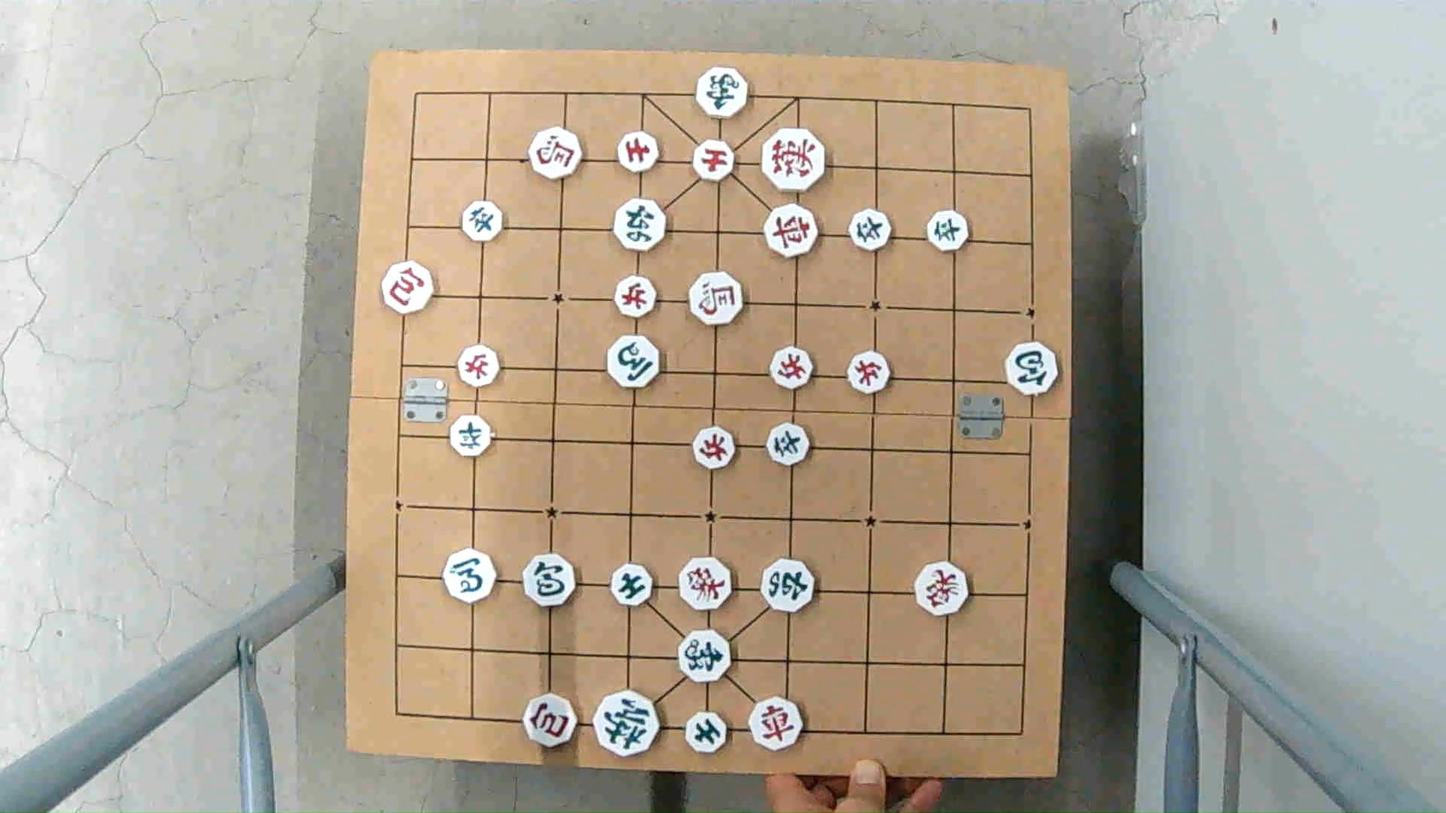cha_green: (761, 561, 818, 611), (612, 199, 667, 250)
cha_red: (751, 698, 805, 751), (765, 207, 821, 256)
jol_green: (925, 211, 973, 249), (767, 425, 812, 464), (450, 418, 496, 456), (848, 212, 894, 250), (462, 202, 506, 241)
jol_red: (690, 426, 735, 470), (615, 277, 660, 316), (770, 349, 815, 388), (847, 353, 892, 392), (456, 347, 502, 385)
ma_green: (444, 553, 500, 602), (608, 338, 663, 387)
ma_red: (688, 269, 745, 326), (526, 126, 584, 181)
po_green: (1002, 344, 1058, 394), (522, 557, 576, 606)
po_red: (521, 696, 579, 746), (379, 263, 436, 312)
sa_green: (611, 566, 656, 606), (682, 712, 728, 751)
sa_red: (689, 142, 736, 181), (616, 134, 663, 172)
sang_green: (678, 633, 736, 682), (694, 69, 750, 117)
sang_red: (679, 557, 733, 613), (914, 565, 969, 614)
wang_green: (593, 695, 662, 754)
wang_red: (763, 128, 828, 189)
